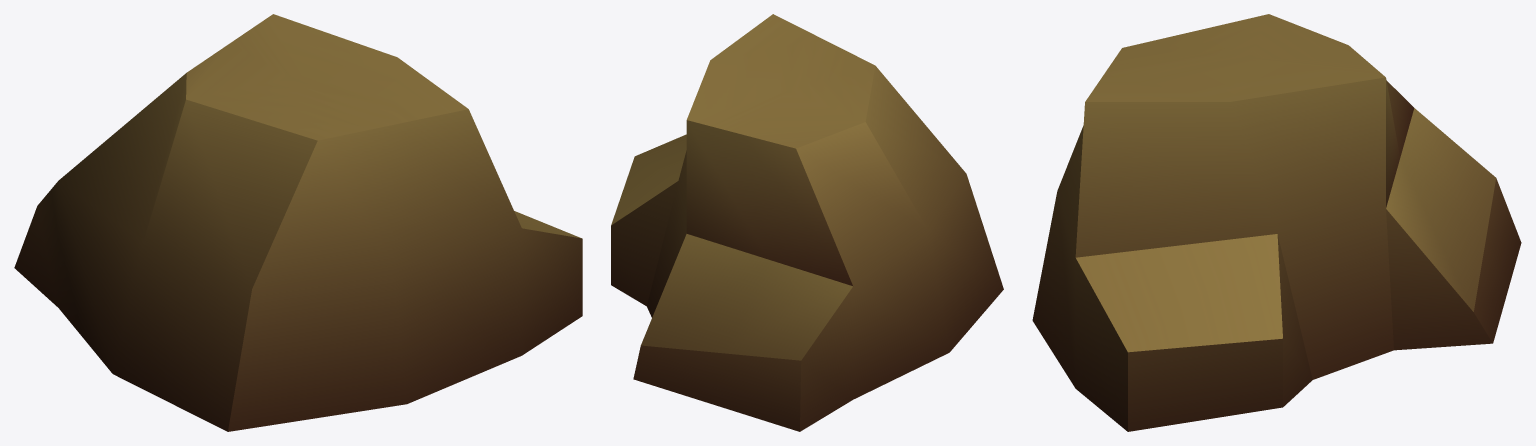
The model's file is Enviroment__Batu_Besar_001.fbx.
The picture shows the model from 3 angles, left to right: view 1: azimuth 30°, elevation 25°; view 2: azimuth 150°, elevation 25°; view 3: azimuth 270°, elevation 25°; orthographic projection. The views are drawn at different scales.
Visible parts, largest first — view 1: Cube.009; view 2: Cube.009; view 3: Cube.009.
Boxes of the visible parts, bbox=[...] form: Cube.009: bbox=[14, 14, 582, 431]; Cube.009: bbox=[611, 14, 1003, 431]; Cube.009: bbox=[1032, 14, 1521, 431].
Bounding box in the file's own units: 20 × 11.84 × 20.
